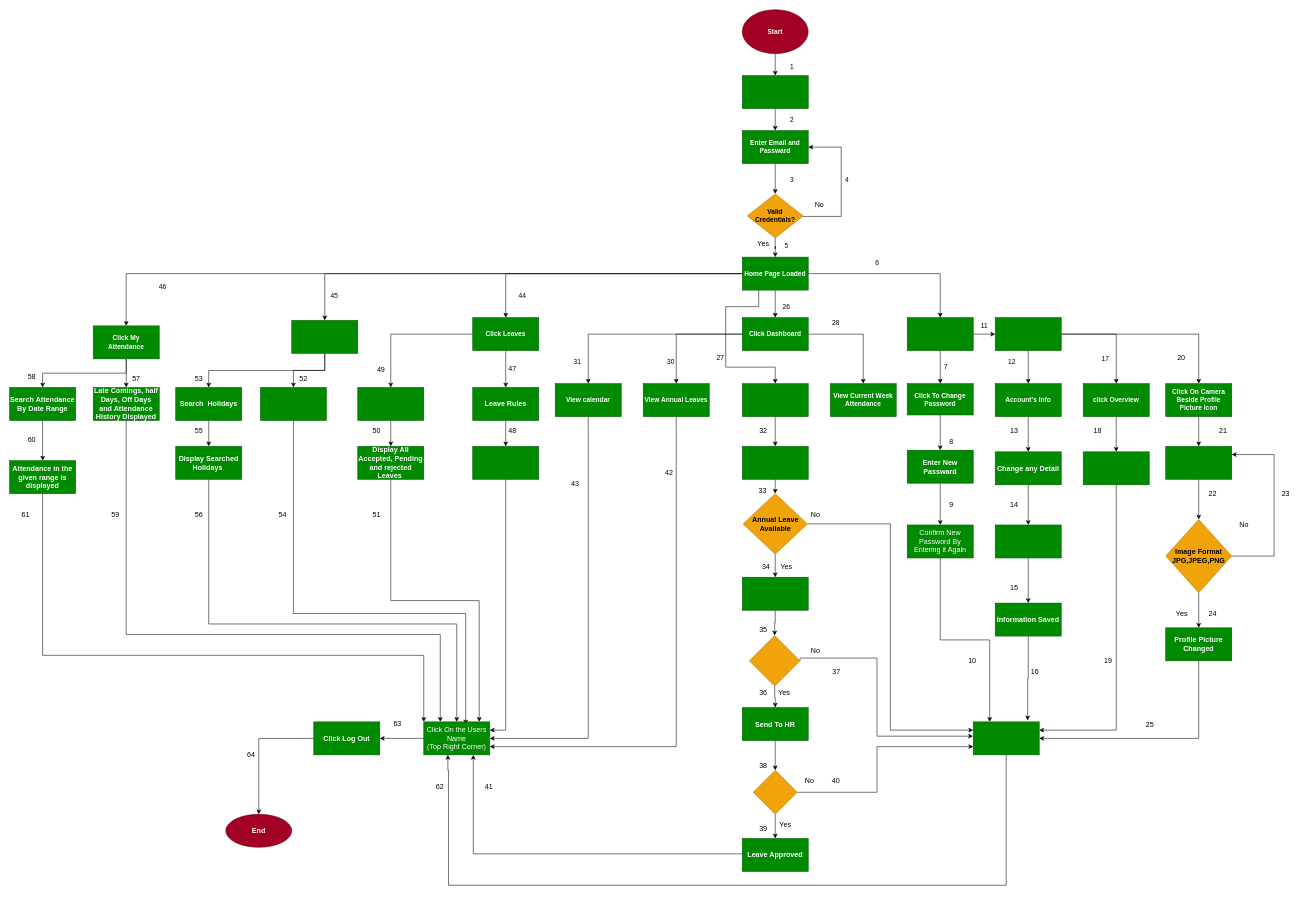
Some shapes in this 1311 by 899 pixel diagram are drawn without their labels. The shapes that lost their labels are listed below. From the top down, each one's centre as x and y in pixels, then its label:
[775,92]: Login Page
[324,336]: Click Holidays
[940,334]: Click Name (Top Right Corner)
[1028,334]: Click Profile
[293,403]: Display Public Holidays
[390,403]: My Leaves
[775,400]: Click Apply Leave
[505,462]: Show Rules And regulations Of Leaves
[775,462]: Fill The Leave Details
[1116,468]: Personal Information will be Displayed
[1198,462]: Select Picture From Your Device
[1028,541]: Click Save
[775,593]: Applied
[774,660]: Manager Accepted?
[1006,738]: Required Task Performed
[775,792]: Approved?
